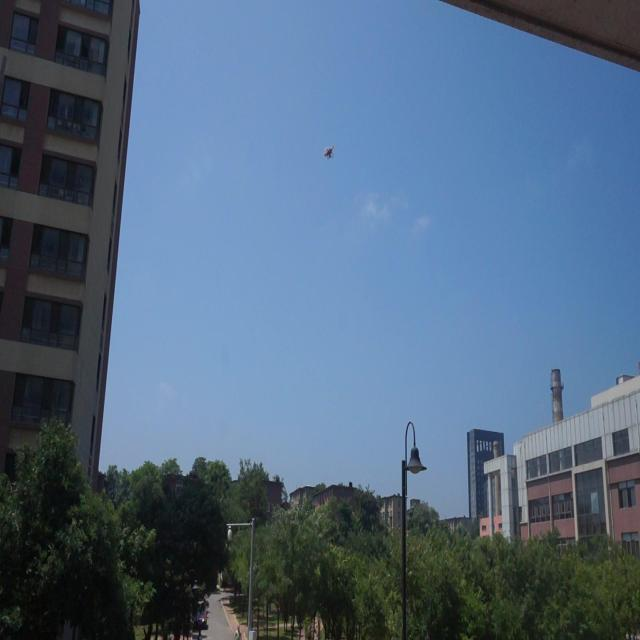drone: (324, 144, 334, 163)
